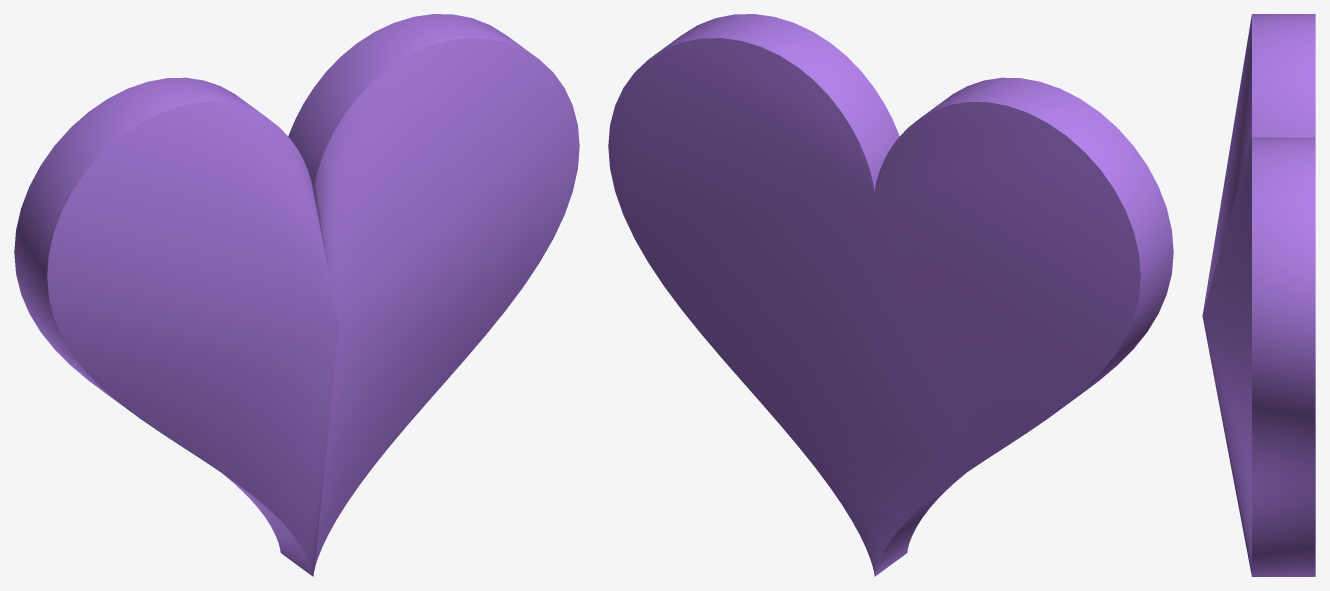
Rendered from SM_InkBlot.fbx.
3 views of the same model, side by side, from view 1: azimuth 30°, elevation 25°; view 2: azimuth 150°, elevation 25°; view 3: azimuth 270°, elevation 25° (orthographic). The views are drawn at different scales.
Visible parts, largest first — view 1: SM_InkBlot; view 2: SM_InkBlot; view 3: SM_InkBlot.
Boxes of the visible parts, box(x1,y1,x2,y2) form: SM_InkBlot: box(14, 14, 579, 576); SM_InkBlot: box(608, 14, 1173, 576); SM_InkBlot: box(1202, 14, 1315, 576).
Bounding box in the file's own units: 1.9 × 10 × 9.04.
